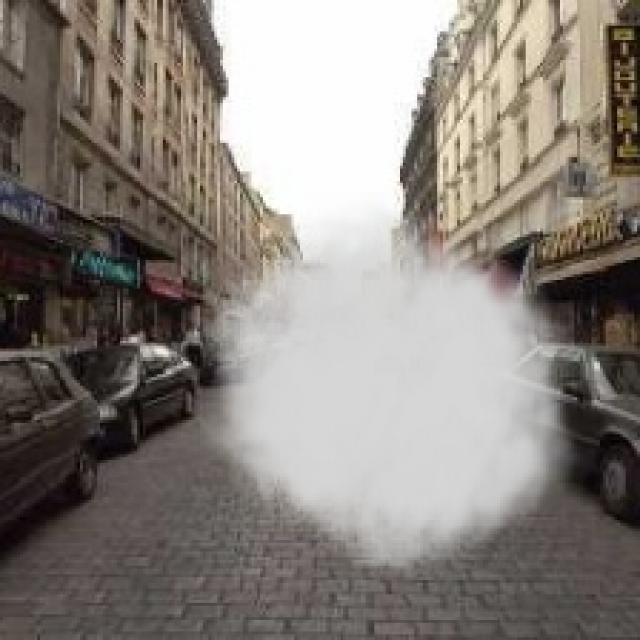Smoke: (199, 192, 592, 588)
